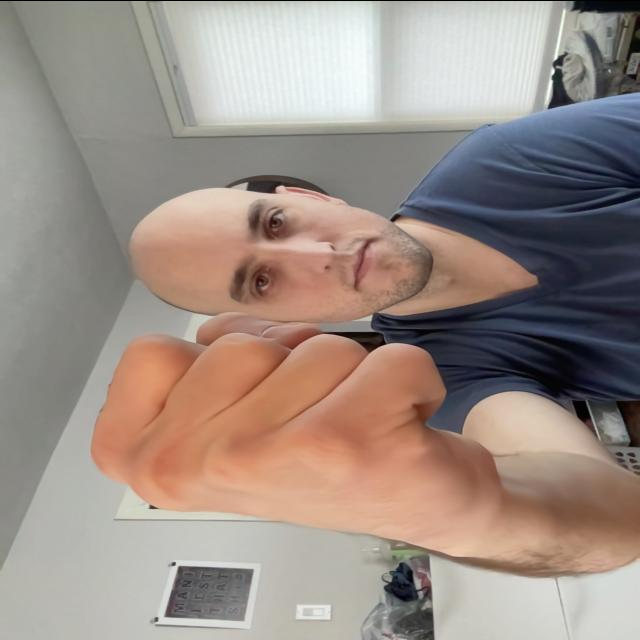Rock: (87, 333, 505, 545)
